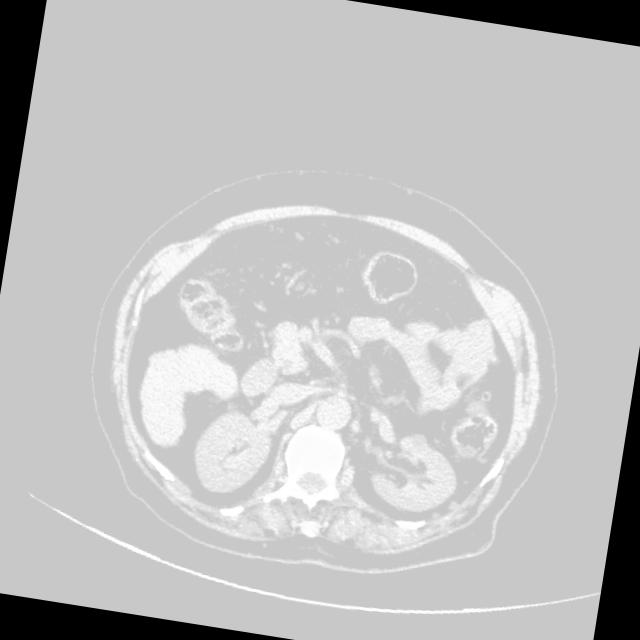cysts: (72, 150, 577, 598)
